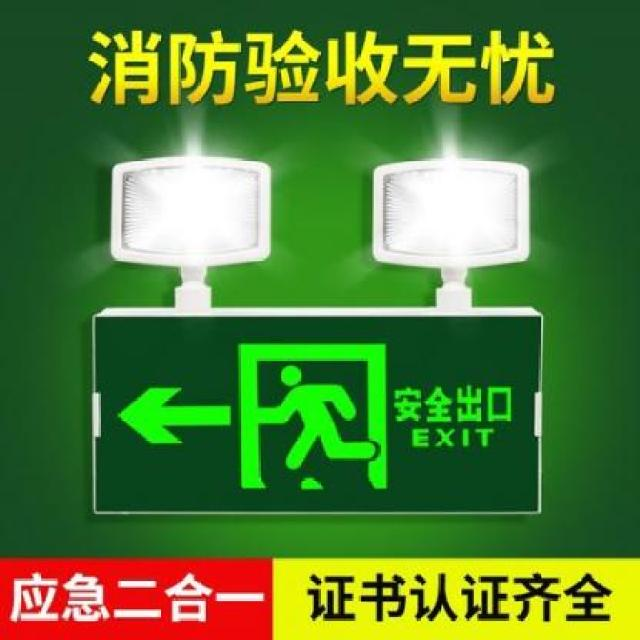exit_sign: (91, 317, 541, 517)
